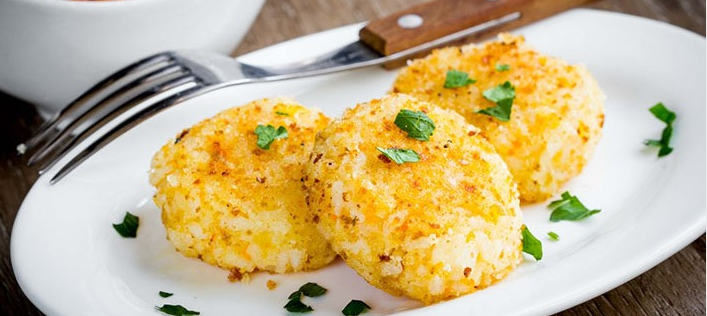feuilles vetes: (547, 195, 592, 222)
galettes de riz: (329, 170, 510, 263)
